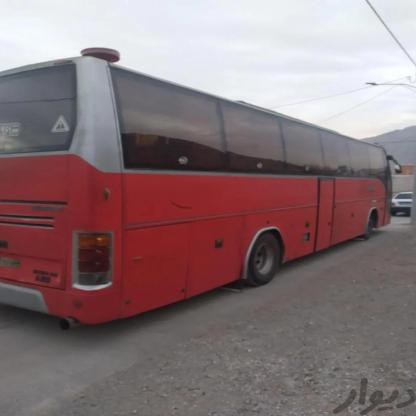Bus: (0, 50, 398, 320)
Car: (389, 190, 416, 222)
